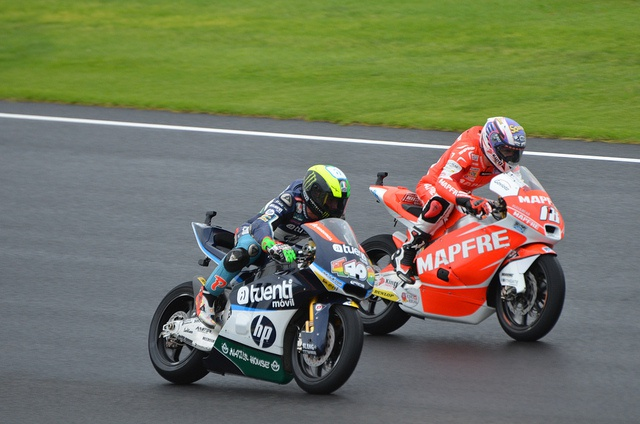non-vehicle: (354, 162, 568, 342), (151, 218, 373, 389)
